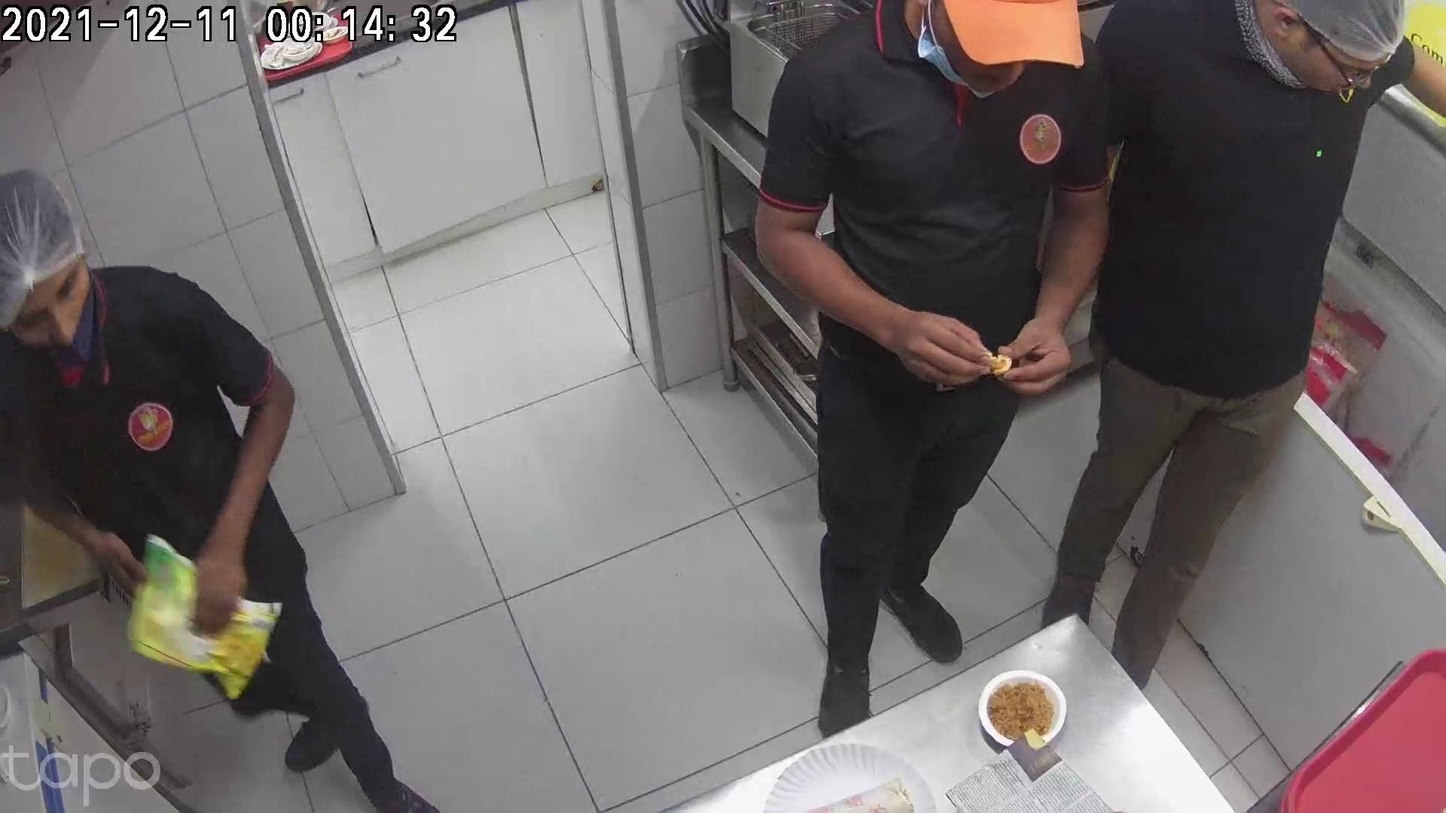gloves: (793, 666, 886, 812)
